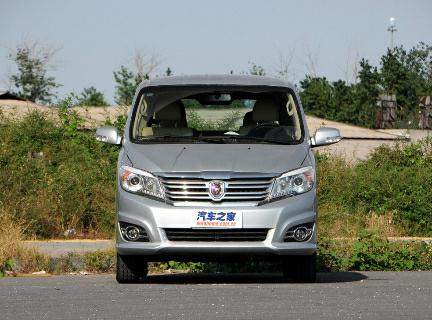金杯-阁瑞斯: (95, 71, 343, 291)
